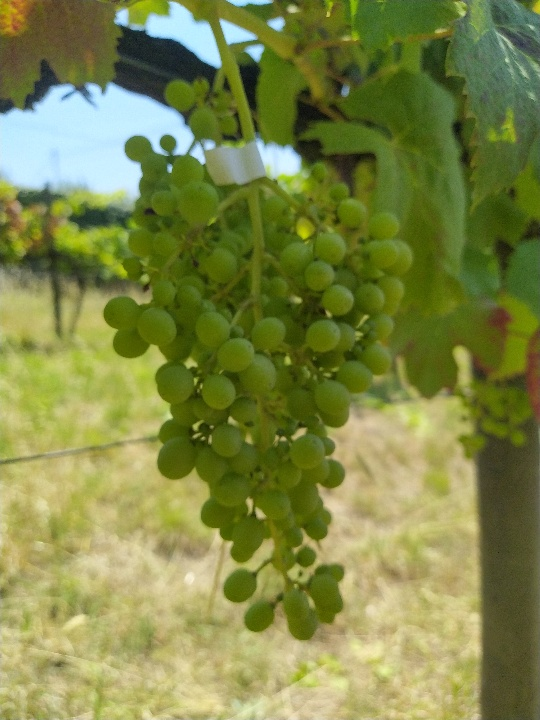grape: (102, 128, 418, 646)
